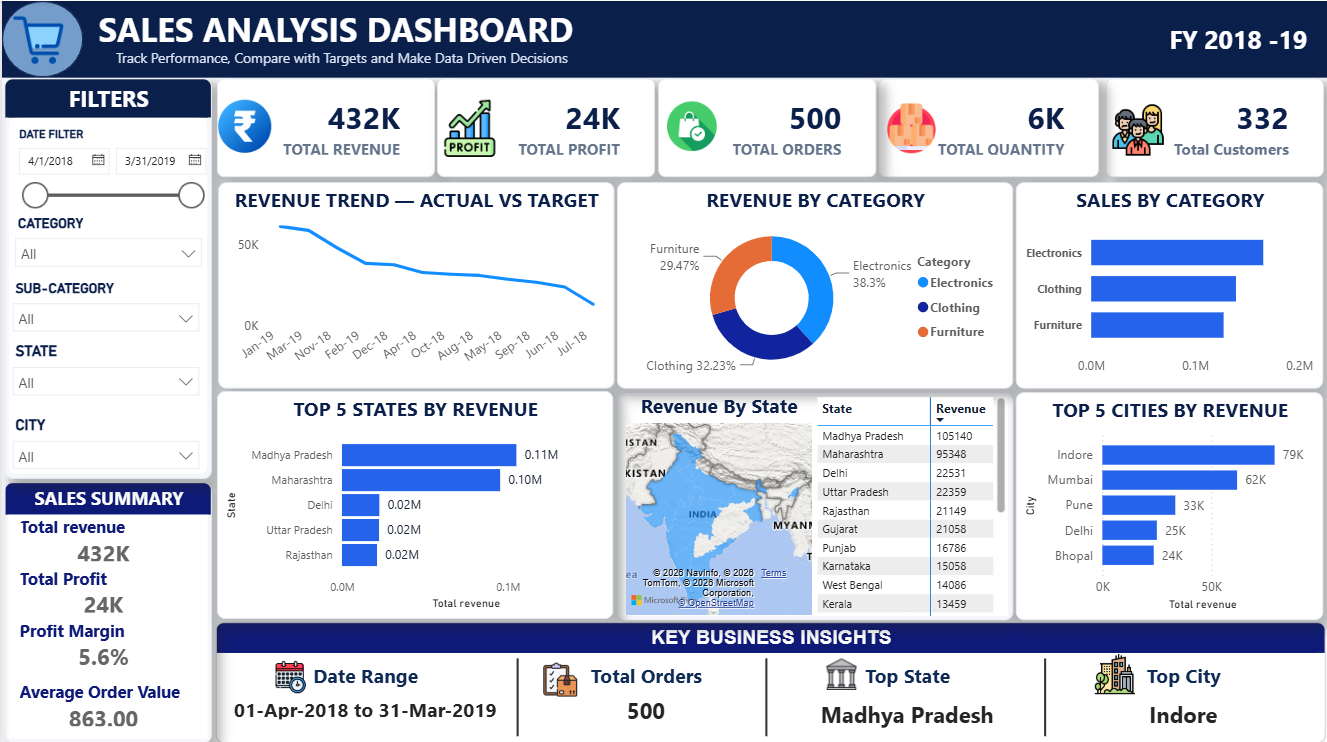

Layout of this report page (visuals, bound fields, positions):
{"tool":"powerbi","page":{"name":"Page 1","canvas":[1280,720],"ordinal":0},"visuals":[{"type":"textbox","title":"KEY BUSINESS INSIGHTS","box":[206.3,599.6,1071,117],"z":0},{"type":"shape","title":"SALES SUMMARY","box":[2,464,200,252],"z":1000},{"type":"shape","box":[593,377.5,382,220],"z":2000},{"type":"shape","title":"FILTERS","box":[2.4,75,200,386.1],"z":3000},{"type":"shape","box":[0,0,1280.3,74],"z":4000},{"type":"textbox","box":[88.1,0,503.1,63.9],"z":5000},{"type":"textbox","box":[105,41,447.6,31.4],"z":6000},{"type":"shape","box":[0,0,78.4,73.6],"z":7000},{"type":"image","box":[2.4,10.9,65.1,54.3],"z":8000},{"type":"cardVisual","fields":{"Data":["List of Orders.Total revenue"]},"box":[207,75,210,95],"z":9000},{"type":"image","box":[209,95,51.2,51.2],"z":10000},{"type":"cardVisual","fields":{"Data":["List of Orders.Total Customers"]},"box":[1065,75,210,95],"z":11000},{"type":"cardVisual","fields":{"Data":["List of Orders.Total Quantity"]},"box":[846,75,213,95],"z":12000},{"type":"cardVisual","fields":{"Data":["List of Orders.Total Profit"]},"box":[420,75,210,95],"z":13000},{"type":"cardVisual","fields":{"Data":["List of Orders.Total Orders"]},"box":[633,75,210,95],"z":14000},{"type":"image","box":[420,95,63.8,55],"z":15000},{"type":"image","box":[640,95,52.5,51.2],"z":16000},{"type":"image","box":[851.7,98.9,51.9,48.3],"z":17000},{"type":"image","box":[1073.7,95.3,50,49],"z":18000},{"type":"lineChart","title":"REVENUE TREND — ACTUAL VS TARGET","fields":{"Y":["List of Orders.Total revenue"],"Category":["Date.Month Year"]},"box":[208.8,175,382,199],"z":19000},{"type":"donutChart","title":"REVENUE BY CATEGORY","fields":{"Category":["Order Details.Category"],"Y":["List of Orders.Total revenue"]},"box":[593.8,175,382,199],"z":20000},{"type":"clusteredBarChart","title":"SALES BY CATEGORY","fields":{"Y":["List of Orders.Total revenue"],"Category":["Order Details.Category"]},"box":[979,175,297,199],"z":21000},{"type":"slicer","fields":{"Values":["Date.Date"]},"box":[3.6,117,200.3,85.7],"z":22000},{"type":"slicer","fields":{"Values":["Category.Category"]},"box":[2.4,202.7,200,67],"z":23000},{"type":"slicer","fields":{"Values":["List of Orders.State"]},"box":[0,324.5,200,67],"z":24000},{"type":"slicer","title":"CITY","fields":{"Values":["List of Orders.City"]},"box":[0,395.7,200,67],"z":25000},{"type":"clusteredBarChart","title":"TOP 5 STATES BY REVENUE","fields":{"Category":["List of Orders.State"],"Y":["List of Orders.Total revenue"]},"box":[208,377,382,220],"z":26000},{"type":"clusteredBarChart","title":"TOP 5 CITIES BY REVENUE","fields":{"Category":["List of Orders.City"],"Y":["List of Orders.Total revenue"]},"box":[979,377.5,297,220],"z":27000},{"type":"filledMap","title":"Revenue By State","fields":{"Category":["List of Orders.State"]},"box":[597.5,377.5,190,220],"z":28000},{"type":"slicer","fields":{"Values":["Order Details.Sub-Category"]},"box":[0,265.4,200,67],"z":29000},{"type":"tableEx","title":"Revenue by State","fields":{"Values":["List of Orders.State","List of Orders.Total revenue"]},"box":[781,377.5,193,220],"z":30000},{"type":"cardVisual","title":"Date Range","fields":{"Data":["List of Orders.Selected Date Range"]},"box":[208.7,633.4,284.7,79.6],"z":31000},{"type":"shape","box":[481,634,32.6,75],"z":32000},{"type":"cardVisual","title":"Total Orders","fields":{"Data":["List of Orders.Total Orders"]},"box":[503.1,633.4,237.7,79.6],"z":33000},{"type":"shape","box":[721,634,32.6,75],"z":34000},{"type":"cardVisual","title":"Top State","fields":{"Data":["List of Orders.Top State"]},"box":[755,633,237.7,86.9],"z":35000},{"type":"shape","box":[991,634,32.6,75],"z":36000},{"type":"cardVisual","title":"Top City","fields":{"Data":["List of Orders.Top City"]},"box":[1018.2,633,244.9,86.9],"z":37000},{"type":"cardVisual","fields":{"Data":["List of Orders.Total revenue"]},"box":[0,485,200.3,73],"z":38000},{"type":"cardVisual","fields":{"Data":["List of Orders.Total Profit"]},"box":[0,534,200.3,73],"z":39000},{"type":"cardVisual","fields":{"Data":["List of Orders.Profit Margin"]},"box":[0,585,200.3,73],"z":40000},{"type":"cardVisual","fields":{"Data":["List of Orders.Average Order Value"]},"box":[0,644,200.3,73],"z":41000},{"type":"textbox","box":[1107.5,15.7,171.3,45.8],"z":42000},{"type":"image","box":[263,632,31.4,41],"z":43000},{"type":"image","box":[522,634,33,41],"z":44000},{"type":"image","box":[795,630,30.2,40],"z":45000},{"type":"image","box":[1049,630,51,40],"z":46000}]}

Visuals, with their boxes in screenshot pixels (x1, y1, x2, y2), scaled from the page's 1280x720 canvas onto the 1327x742 screenshot:
"KEY BUSINESS INSIGHTS" textbox: crop(214, 618, 1324, 738)
"SALES SUMMARY" shape: crop(2, 478, 209, 738)
shape: crop(615, 389, 1011, 616)
"FILTERS" shape: crop(2, 77, 210, 475)
shape: crop(0, 0, 1326, 76)
textbox: crop(91, 0, 613, 66)
textbox: crop(109, 42, 573, 75)
shape: crop(0, 0, 81, 76)
image: crop(2, 11, 70, 67)
cardVisual - List of Orders.Total revenue: crop(215, 77, 432, 175)
image: crop(217, 98, 270, 151)
cardVisual - List of Orders.Total Customers: crop(1104, 77, 1322, 175)
cardVisual - List of Orders.Total Quantity: crop(877, 77, 1098, 175)
cardVisual - List of Orders.Total Profit: crop(435, 77, 653, 175)
cardVisual - List of Orders.Total Orders: crop(656, 77, 874, 175)
image: crop(435, 98, 502, 155)
image: crop(664, 98, 718, 151)
image: crop(883, 102, 937, 152)
image: crop(1113, 98, 1165, 149)
"REVENUE TREND — ACTUAL VS TARGET" lineChart: crop(216, 180, 612, 385)
"REVENUE BY CATEGORY" donutChart: crop(616, 180, 1012, 385)
"SALES BY CATEGORY" clusteredBarChart: crop(1015, 180, 1323, 385)
slicer - Date.Date: crop(4, 121, 211, 209)
slicer - Category.Category: crop(2, 209, 210, 278)
slicer - List of Orders.State: crop(0, 334, 207, 403)
"CITY" slicer: crop(0, 408, 207, 477)
"TOP 5 STATES BY REVENUE" clusteredBarChart: crop(216, 389, 612, 615)
"TOP 5 CITIES BY REVENUE" clusteredBarChart: crop(1015, 389, 1323, 616)
"Revenue By State" filledMap: crop(619, 389, 816, 616)
slicer - Order Details.Sub-Category: crop(0, 274, 207, 343)
"Revenue by State" tableEx: crop(810, 389, 1010, 616)
"Date Range" cardVisual: crop(216, 653, 512, 735)
shape: crop(499, 653, 532, 731)
"Total Orders" cardVisual: crop(522, 653, 768, 735)
shape: crop(747, 653, 781, 731)
"Top State" cardVisual: crop(783, 652, 1029, 741)
shape: crop(1027, 653, 1061, 731)
"Top City" cardVisual: crop(1056, 652, 1309, 741)
cardVisual - List of Orders.Total revenue: crop(0, 500, 208, 575)
cardVisual - List of Orders.Total Profit: crop(0, 550, 208, 626)
cardVisual - List of Orders.Profit Margin: crop(0, 603, 208, 678)
cardVisual - List of Orders.Average Order Value: crop(0, 664, 208, 739)
textbox: crop(1148, 16, 1326, 63)
image: crop(273, 651, 305, 694)
image: crop(541, 653, 575, 696)
image: crop(824, 649, 856, 690)
image: crop(1088, 649, 1140, 690)
